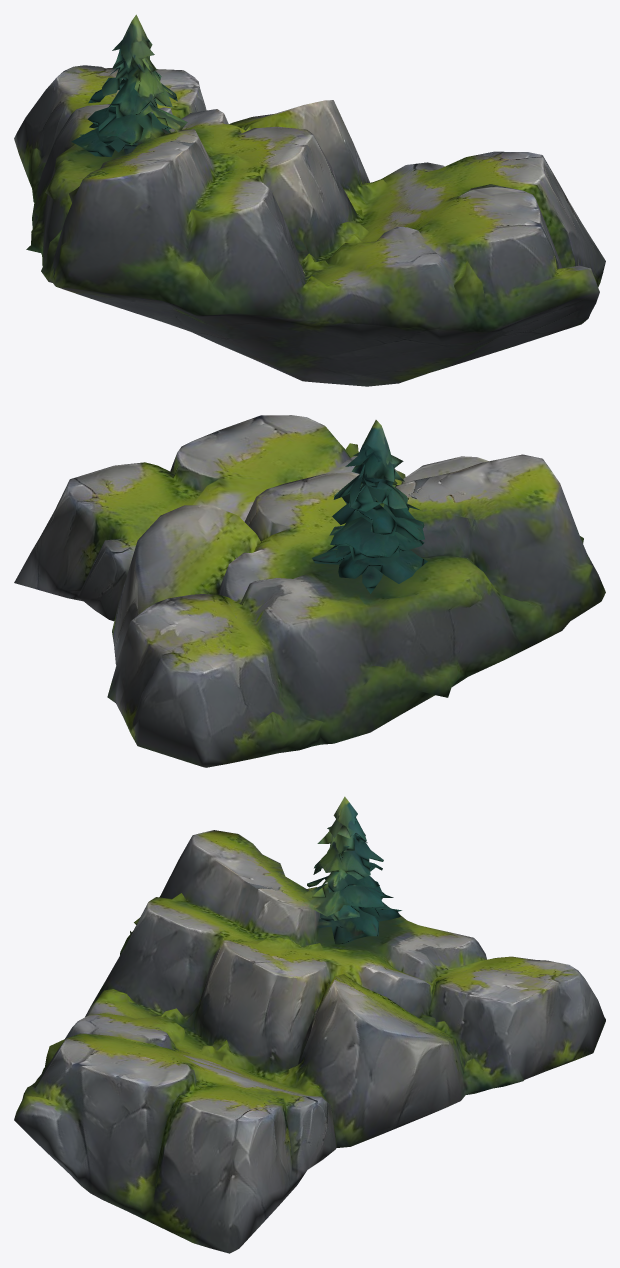
Rendered from khoi_13.glb.
3 renders of one model, top to bottom at view 1: azimuth 30°, elevation 25°; view 2: azimuth 150°, elevation 25°; view 3: azimuth 270°, elevation 25°, orthographic. The views are drawn at different scales.
Parts seen in each view (by area): view 1: tripo_node_a9d40e4a-9c27-4a7b-9139-77ffed55a2e5; view 2: tripo_node_a9d40e4a-9c27-4a7b-9139-77ffed55a2e5; view 3: tripo_node_a9d40e4a-9c27-4a7b-9139-77ffed55a2e5.
Part boxes in pixels (x1,y1,x2,y2): tripo_node_a9d40e4a-9c27-4a7b-9139-77ffed55a2e5: (14, 14, 605, 386); tripo_node_a9d40e4a-9c27-4a7b-9139-77ffed55a2e5: (14, 415, 605, 767); tripo_node_a9d40e4a-9c27-4a7b-9139-77ffed55a2e5: (14, 796, 605, 1253).
Size of the model in its own units: 0.993 by 0.5859 by 1.
Materials: 1 (1 with a texture image).
